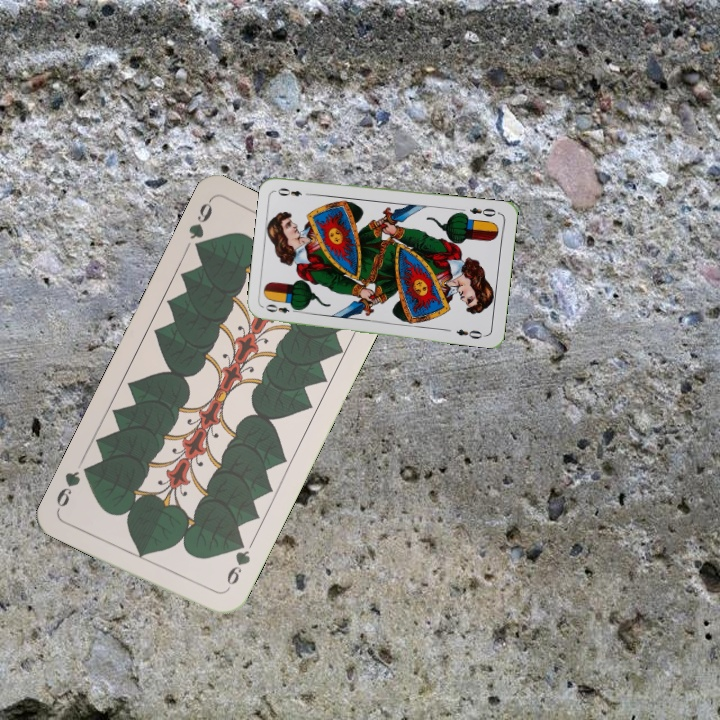EO: (261, 300, 301, 316), (466, 203, 498, 219)
G9: (220, 536, 253, 595), (184, 196, 215, 256)
